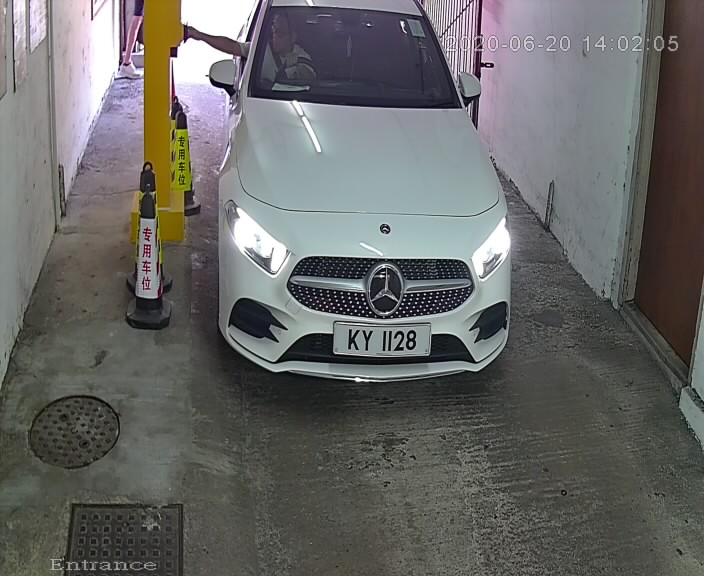privatecar: (201, 3, 527, 412)
